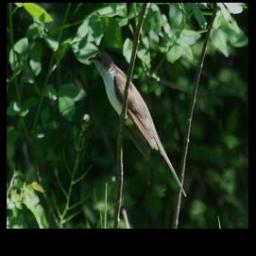Cuckoo: (89, 50, 188, 199)
